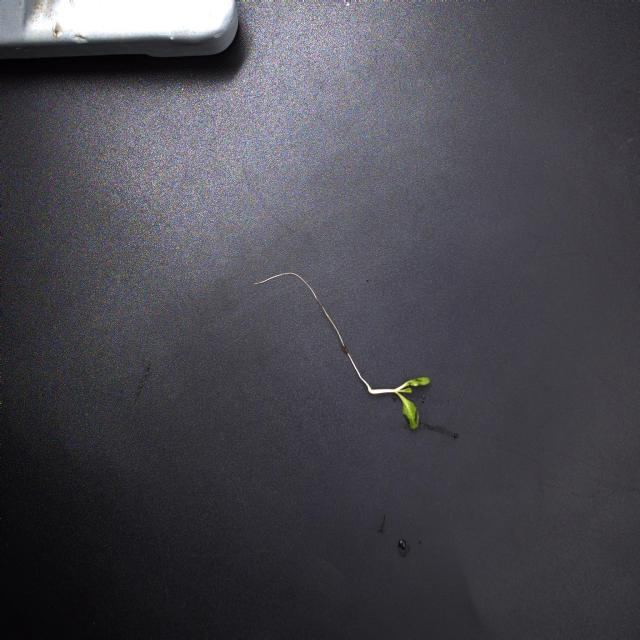leaf: (401, 400, 427, 437)
root: (251, 268, 395, 402)
steb: (391, 374, 411, 402)
